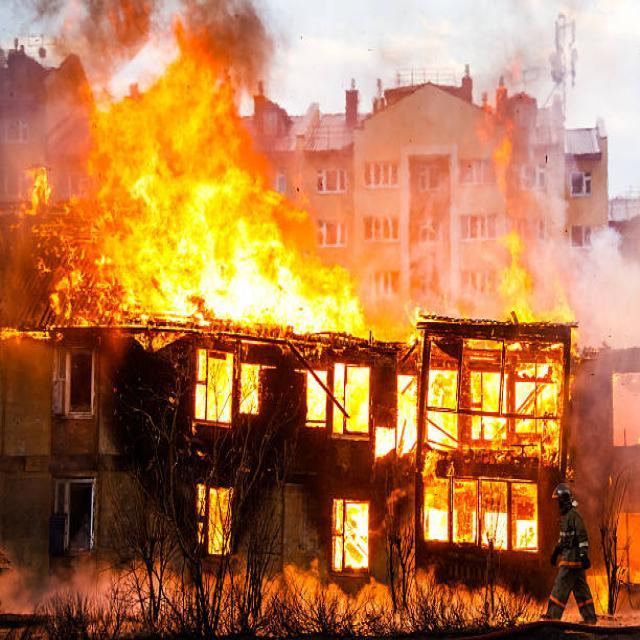Fire: (103, 42, 316, 332), (438, 262, 586, 561), (164, 273, 407, 437)
Smoke: (422, 170, 640, 374), (42, 0, 308, 144)
